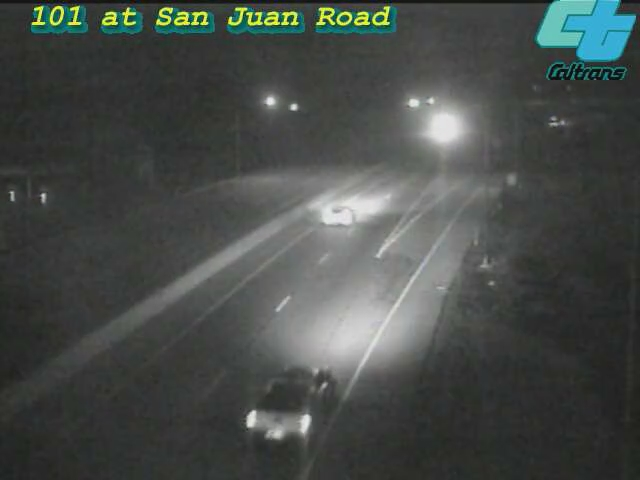vehicle: (236, 361, 346, 471), (297, 176, 377, 256), (416, 104, 466, 154), (532, 96, 582, 146)
